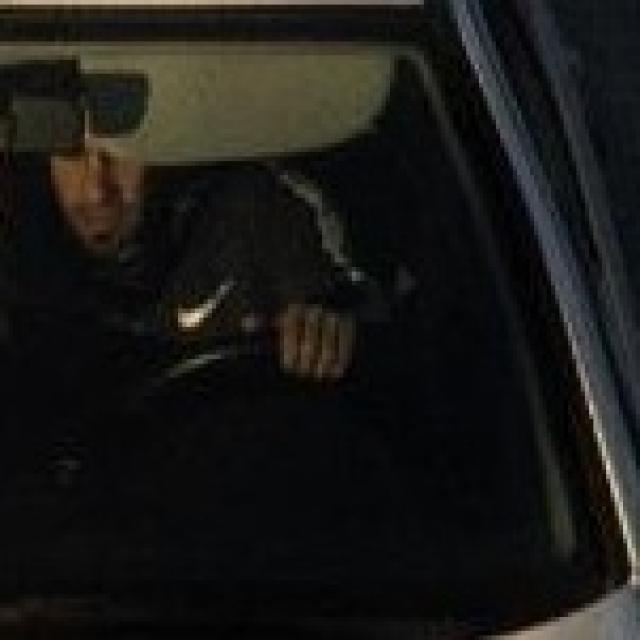No-seat-belt: (7, 44, 557, 524)
